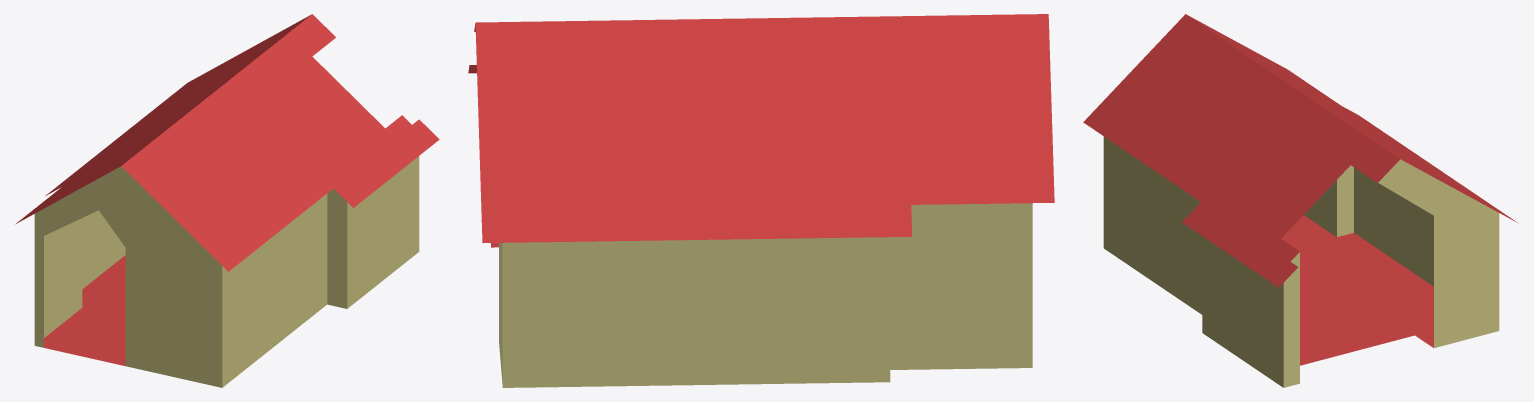
3 renders of one model, left to right at view 1: azimuth 30°, elevation 25°; view 2: azimuth 150°, elevation 25°; view 3: azimuth 270°, elevation 25°, orthographic. The views are drawn at different scales.
Bounding box in the file's own units: 32.42 × 29.28 × 15.19.
